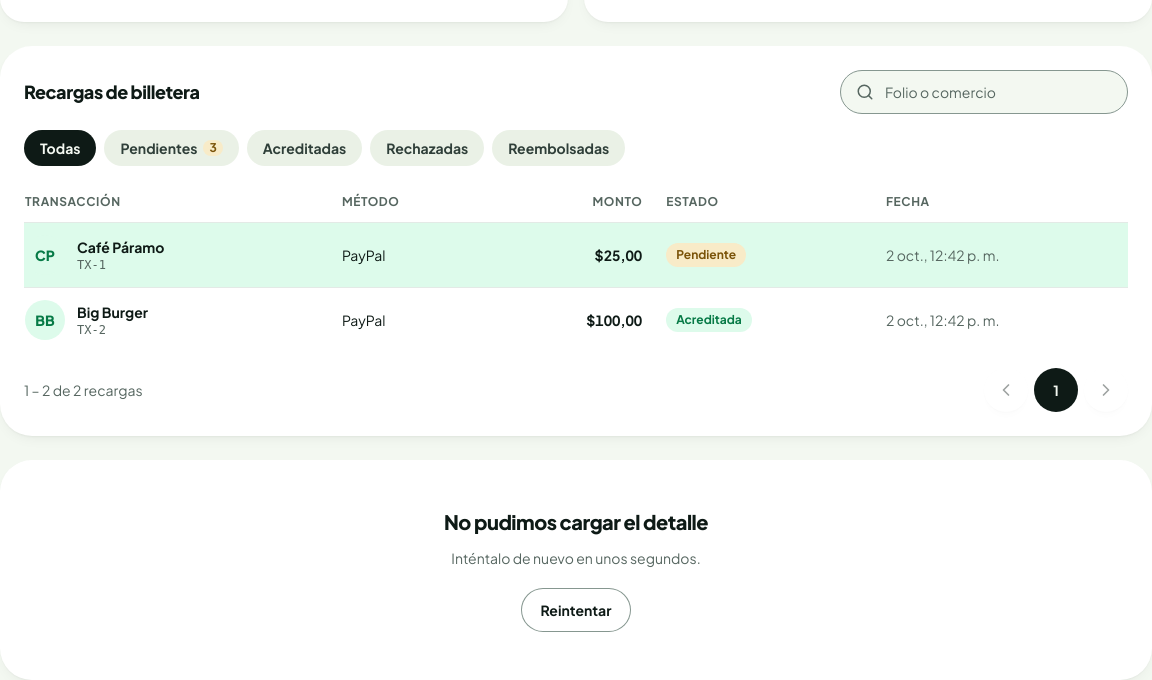
B09 Finanzas › si el detalle falla ofrece reintentar
(page scrolled)
Click the button "Reintentar": (576, 610) [520, 588, 631, 632]
(page scrolled)
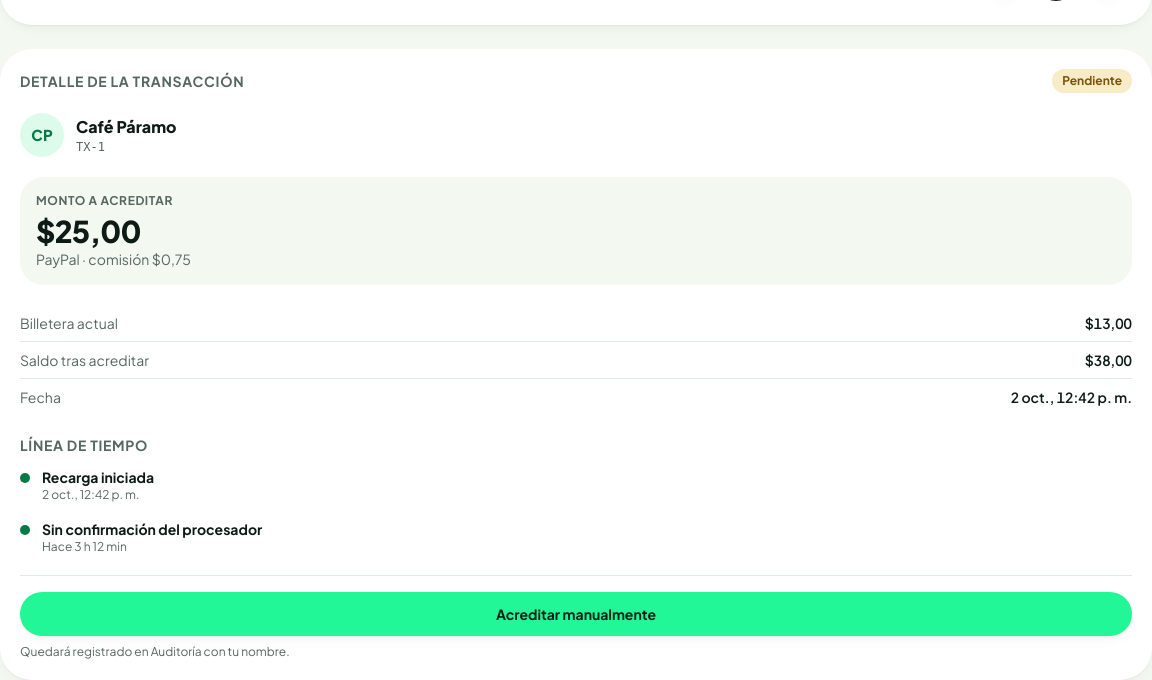
Now the text "Saldo tras acreditar" is shown, box [20, 350, 149, 370]
